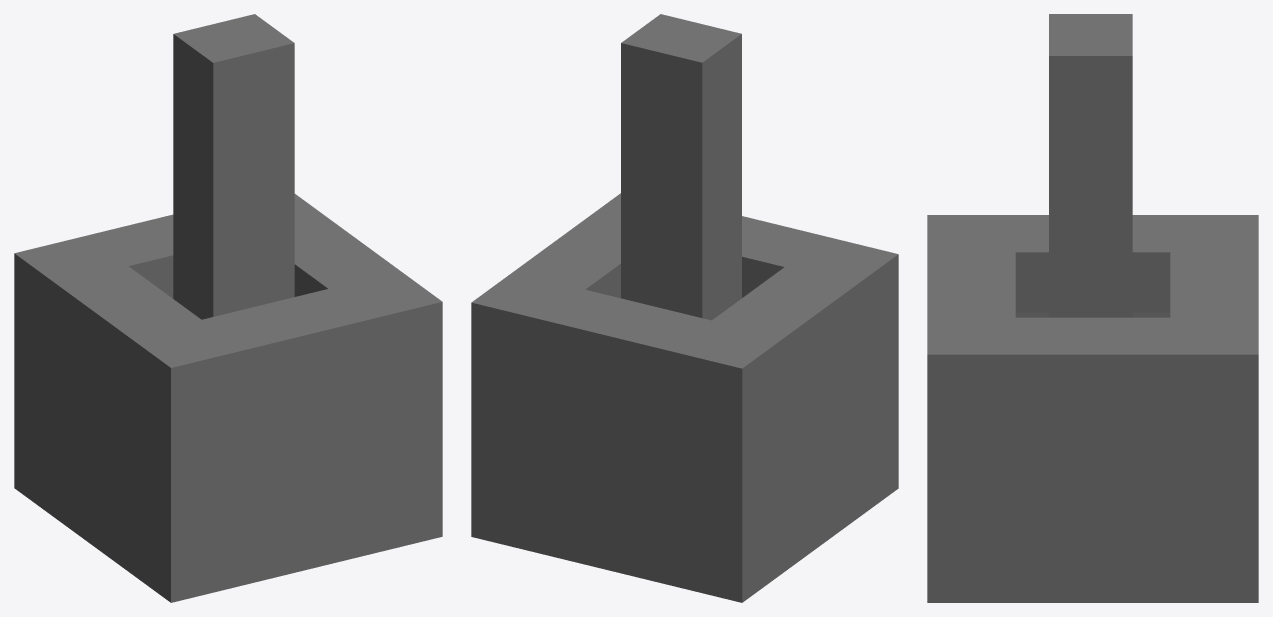
File: bossgolem-2.obj
The picture shows the model from 3 angles, left to right: view 1: azimuth 30°, elevation 25°; view 2: azimuth 150°, elevation 25°; view 3: azimuth 270°, elevation 25°; orthographic projection. The views are drawn at different scales.
Size of the model in its own units: 15 by 25 by 15.
1 material, 1 textured.
